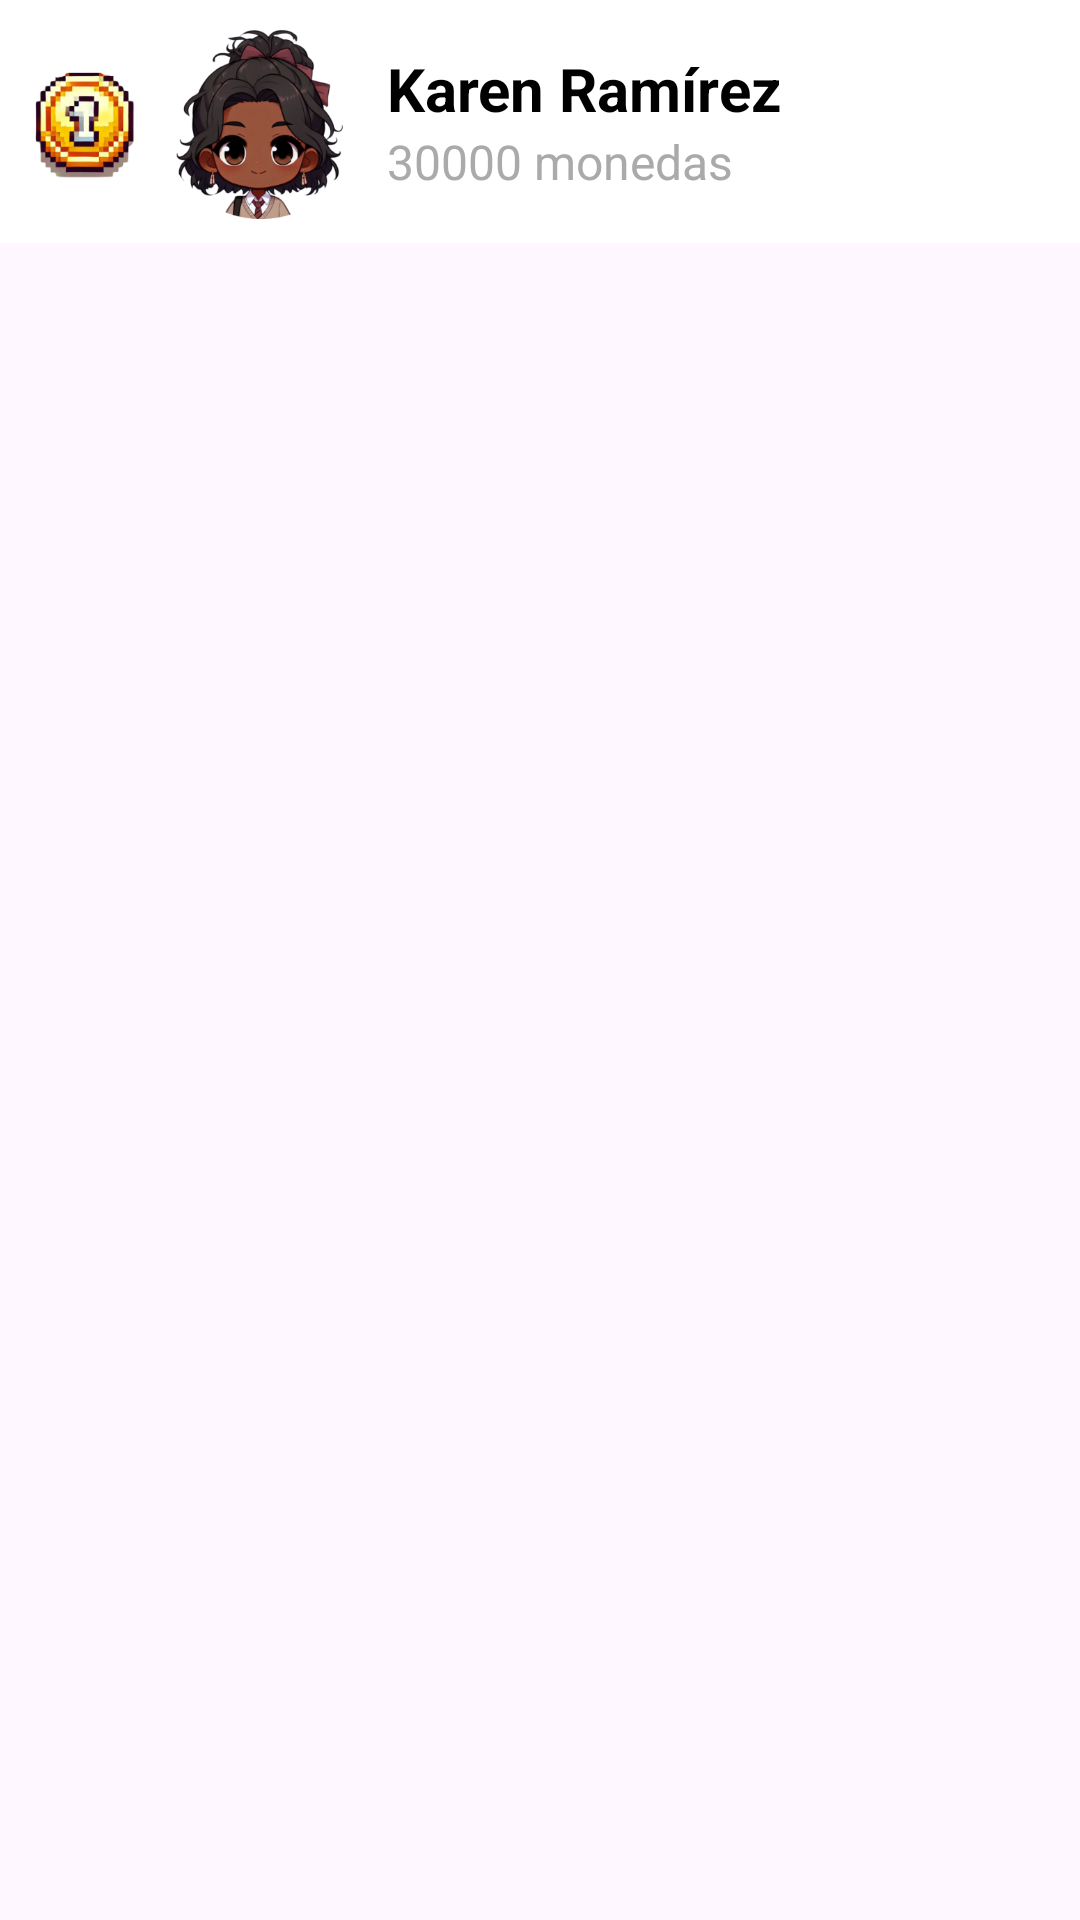

Screen size 1080x1920. Icon name, then its center in pixels as (x,y):
gold medal: (84,125)
